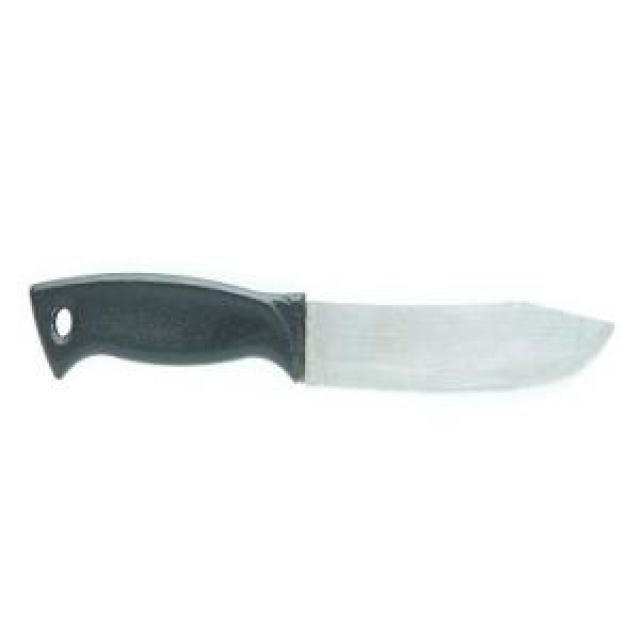knife: (25, 275, 616, 393)
